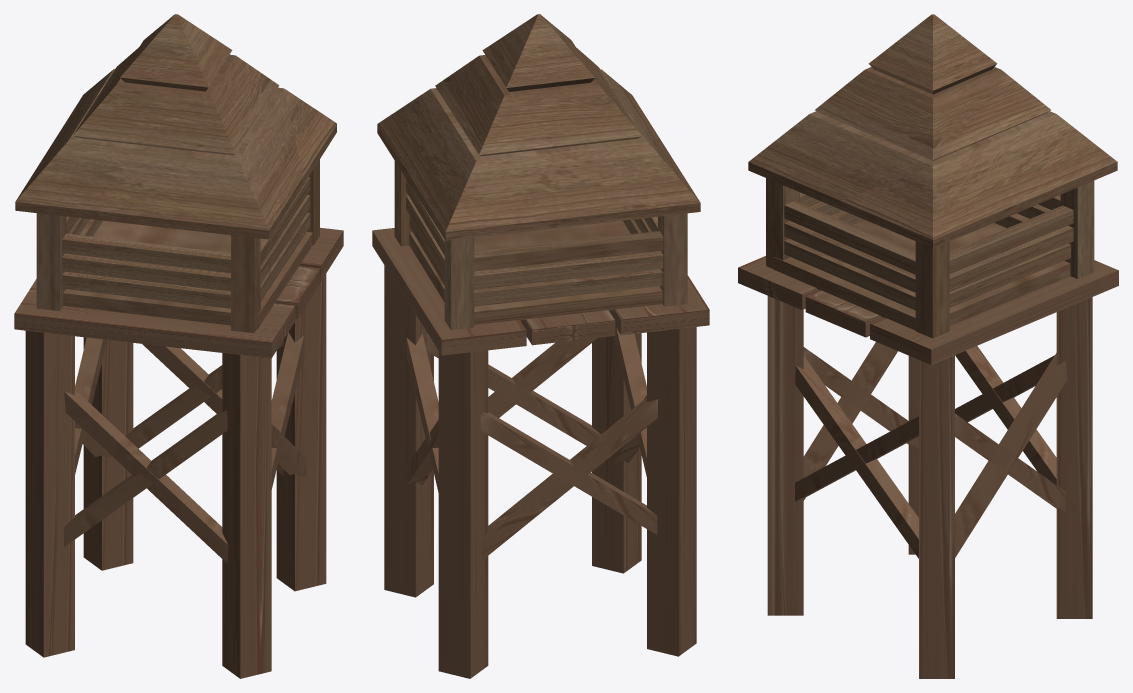
The model's file is att_tower_uv.fbx.
3 views of the same model, side by side, from view 1: azimuth 30°, elevation 25°; view 2: azimuth 150°, elevation 25°; view 3: azimuth 270°, elevation 25° (orthographic).
Visible parts, largest first — view 1: pCube37; view 2: pCube37; view 3: pCube37.
Boxes of the visible parts, x1,y1,x2,y2 form: pCube37: (14, 14, 343, 678); pCube37: (372, 14, 709, 678); pCube37: (738, 14, 1118, 678).
Size of the model in its own units: 15.89 by 27.35 by 15.87.
